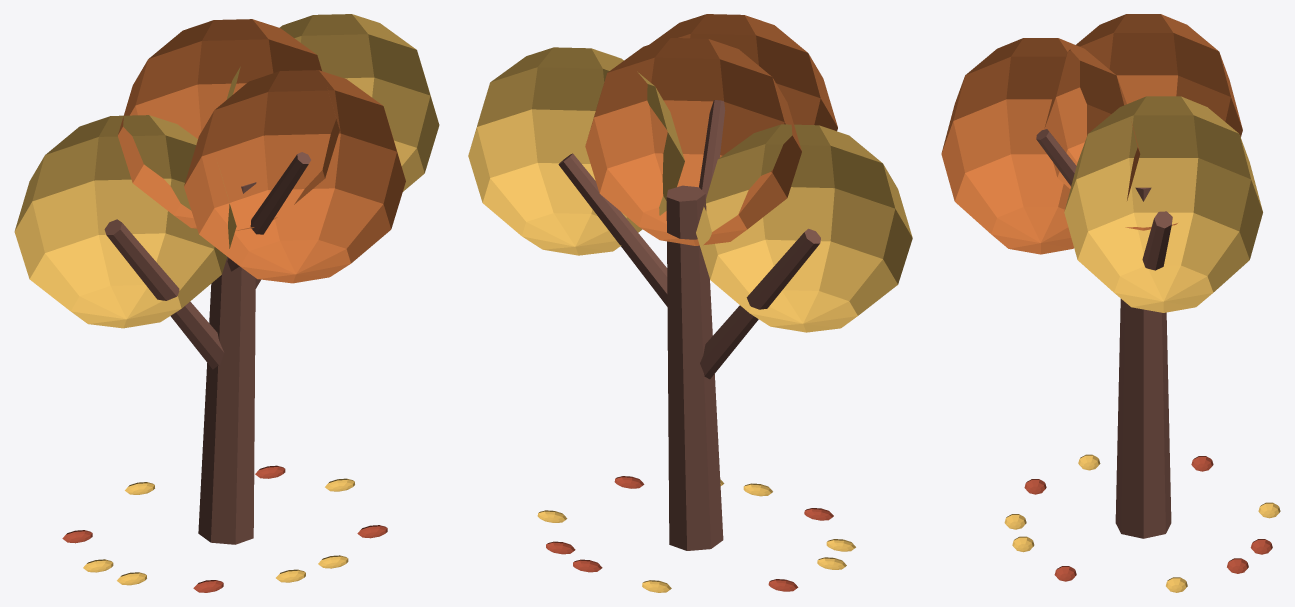
File: turning-seasons-autumn-orchard-tree-d7adbbe2__2108.glb
3 renders of one model, left to right at view 1: azimuth 30°, elevation 25°; view 2: azimuth 150°, elevation 25°; view 3: azimuth 270°, elevation 25°, orthographic. The views are drawn at different scales.
Visible parts, largest first — view 1: autumn-orchard-tree; view 2: autumn-orchard-tree; view 3: autumn-orchard-tree.
Part boxes in pixels (left/top/right/bottom): autumn-orchard-tree: left=14, top=14, right=439, bottom=592; autumn-orchard-tree: left=468, top=14, right=912, bottom=592; autumn-orchard-tree: left=941, top=14, right=1280, bottom=592.
Size of the model in its own units: 2.83 by 3.31 by 2.02.
